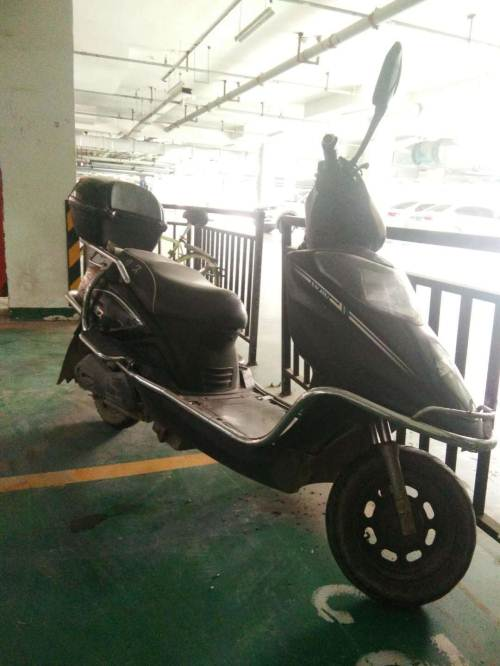电动车: (62, 46, 498, 608)
